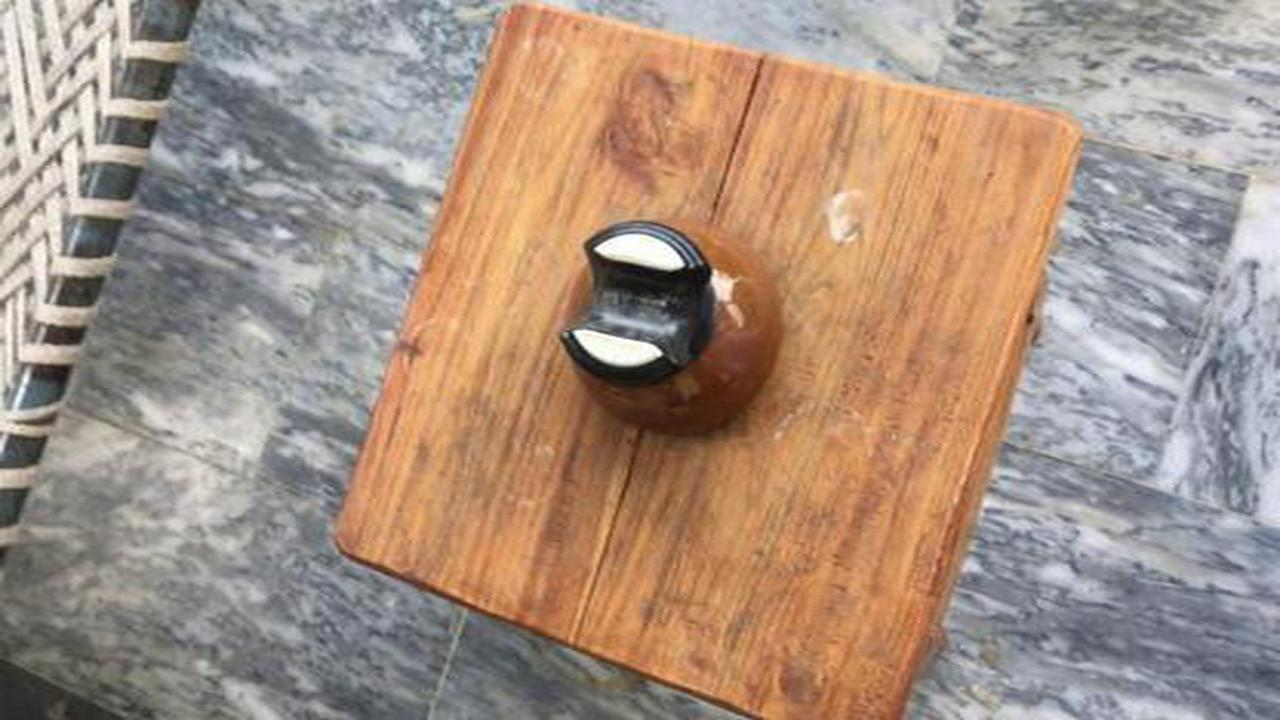insulator_pin: (539, 206, 816, 456)
